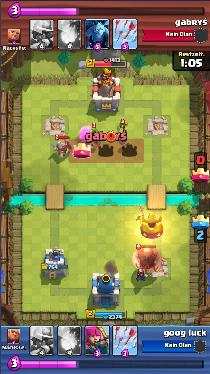enemy_giant: (132, 246, 162, 272)
enemy_goblin: (116, 120, 129, 133), (90, 127, 100, 140)
enemy_knight: (50, 140, 71, 156)
enemy_mini_pekka: (135, 269, 146, 281)
